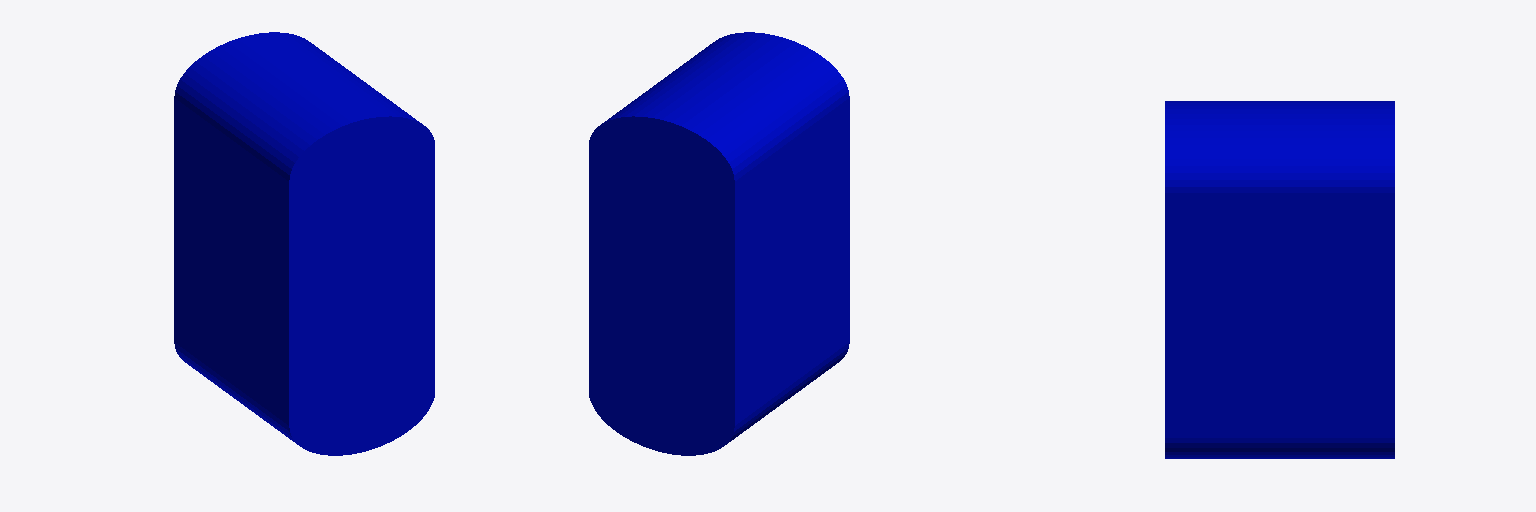
Rendered from pared2.obj.
3 renders of one model, left to right at view 1: azimuth 30°, elevation 25°; view 2: azimuth 150°, elevation 25°; view 3: azimuth 270°, elevation 25°, orthographic.
Parts seen in each view (by area): view 1: path3822; view 2: path3822; view 3: path3822.
Boxes of the visible parts, x1=… form: path3822: x1=174, y1=32, x2=434, y2=455; path3822: x1=589, y1=32, x2=849, y2=455; path3822: x1=1165, y1=101, x2=1394, y2=458.
Size of the model in its own units: 2.45 by 3.19 by 2.